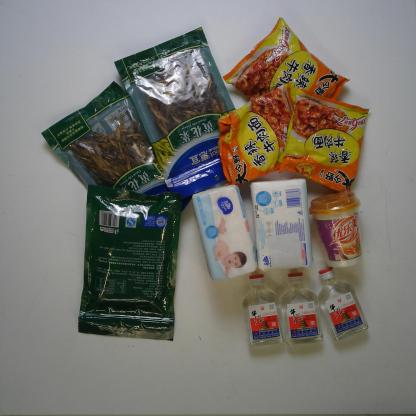Alcohol: (316, 265, 369, 342), (240, 272, 287, 350), (279, 271, 326, 347)
Dried Food: (112, 25, 240, 200), (39, 80, 195, 216), (76, 182, 182, 342)
Instant Drink: (308, 190, 365, 269)
Instant Noodles: (220, 14, 352, 111), (276, 83, 372, 196), (215, 81, 297, 187)
Tissue: (191, 182, 258, 283), (248, 177, 315, 273)
